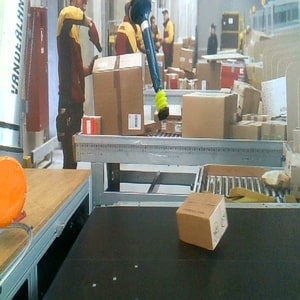box: (176, 192, 229, 251)
